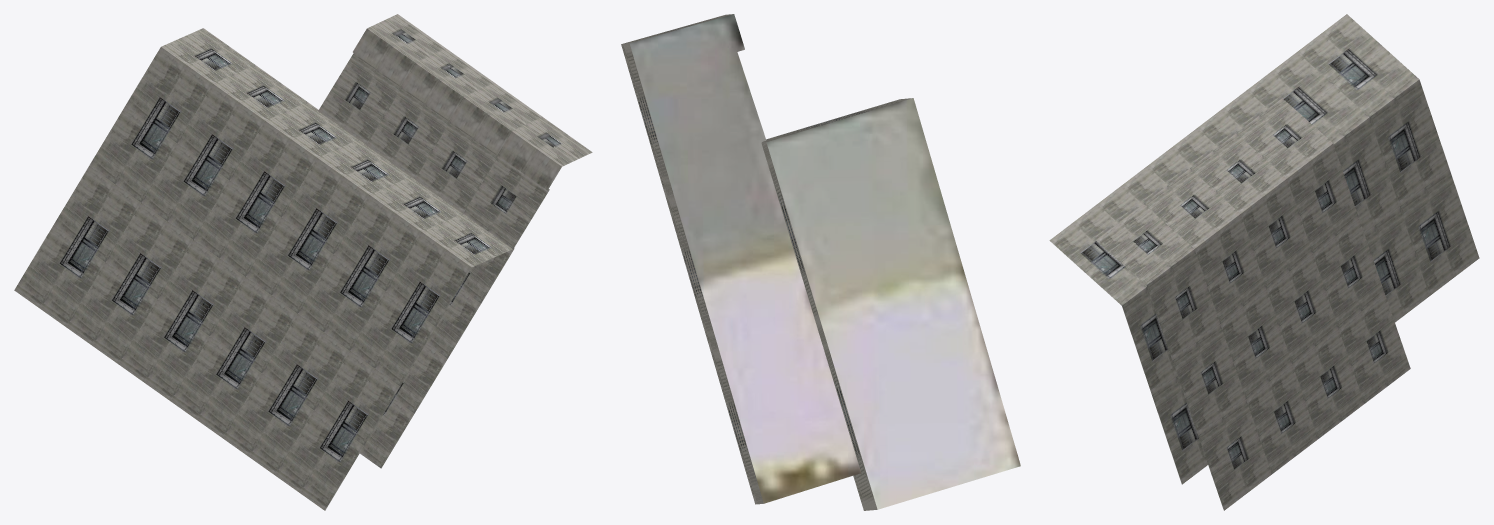
3 views of the same model, side by side, from view 1: azimuth 30°, elevation 25°; view 2: azimuth 150°, elevation 25°; view 3: azimuth 270°, elevation 25° (orthographic). The views are drawn at different scales.
Size of the model in its own units: 27.14 by 24.12 by 22.84.
8 materials, 8 textured.
